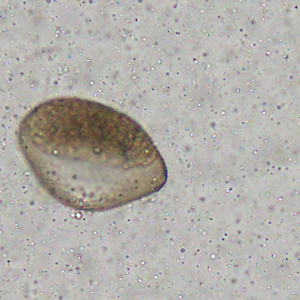Fasciola_hepatica_egg: (16, 94, 169, 212)
